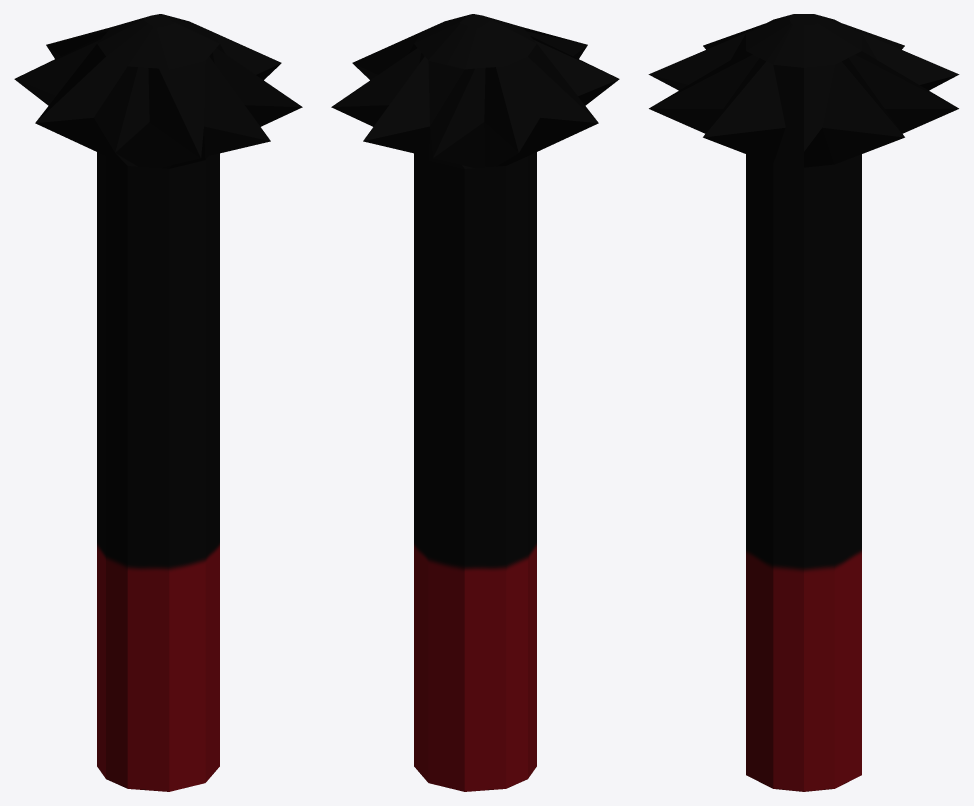
File: Mace.fbx
3 renders of one model, left to right at view 1: azimuth 30°, elevation 25°; view 2: azimuth 150°, elevation 25°; view 3: azimuth 270°, elevation 25°, orthographic.
Visible parts, largest first — view 1: Mace; view 2: Mace; view 3: Mace.
Part boxes in pixels (box(x1,y1,x2,y2)): Mace: box(14, 14, 302, 791); Mace: box(331, 14, 619, 791); Mace: box(648, 14, 959, 791).
Bounding box in the file's own units: 149 × 428 × 162.
